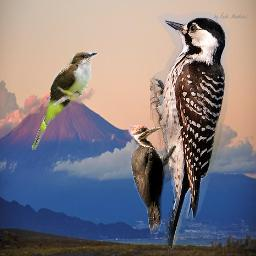Cuckoo: (31, 51, 98, 150)
Woodpecker: (150, 11, 230, 256), (128, 125, 176, 234)
